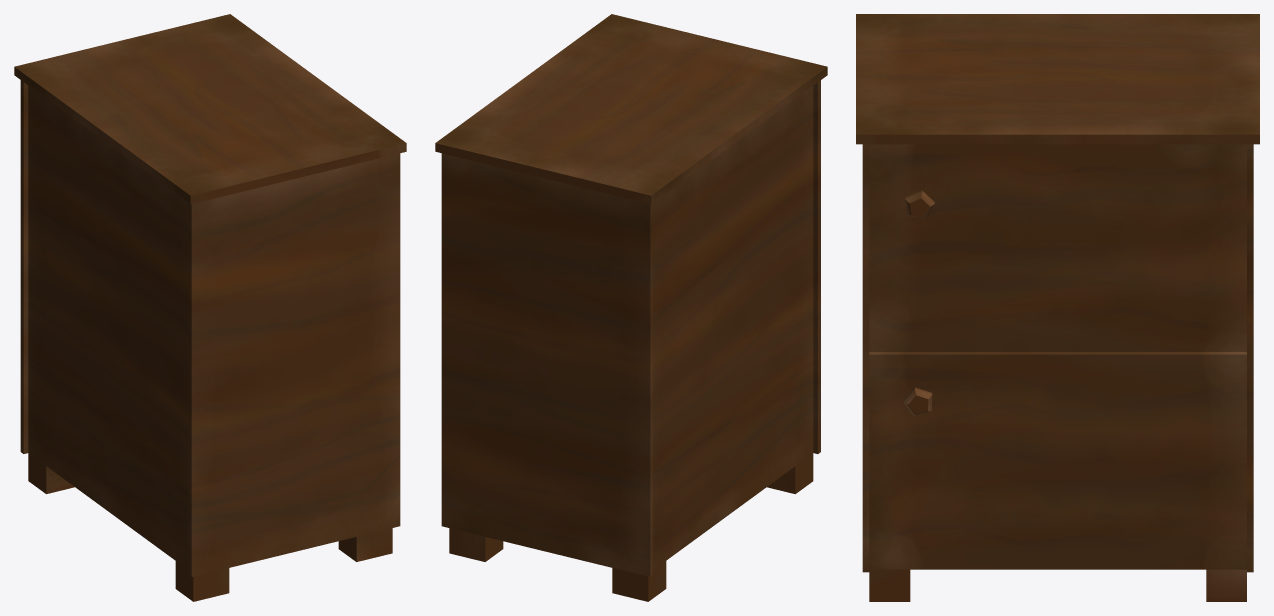
The model's file is Mueble.fbx.
3 views of the same model, side by side, from view 1: azimuth 30°, elevation 25°; view 2: azimuth 150°, elevation 25°; view 3: azimuth 270°, elevation 25° (orthographic). The views are drawn at different scales.
Parts seen in each view (by area): view 1: Mueble; view 2: Mueble; view 3: Mueble.
Part boxes in pixels (<box>): Mueble: <box>14,14,406,601</box>; Mueble: <box>435,14,827,601</box>; Mueble: <box>856,14,1259,601</box>.
Size of the model in its own units: 123 by 220 by 171.
